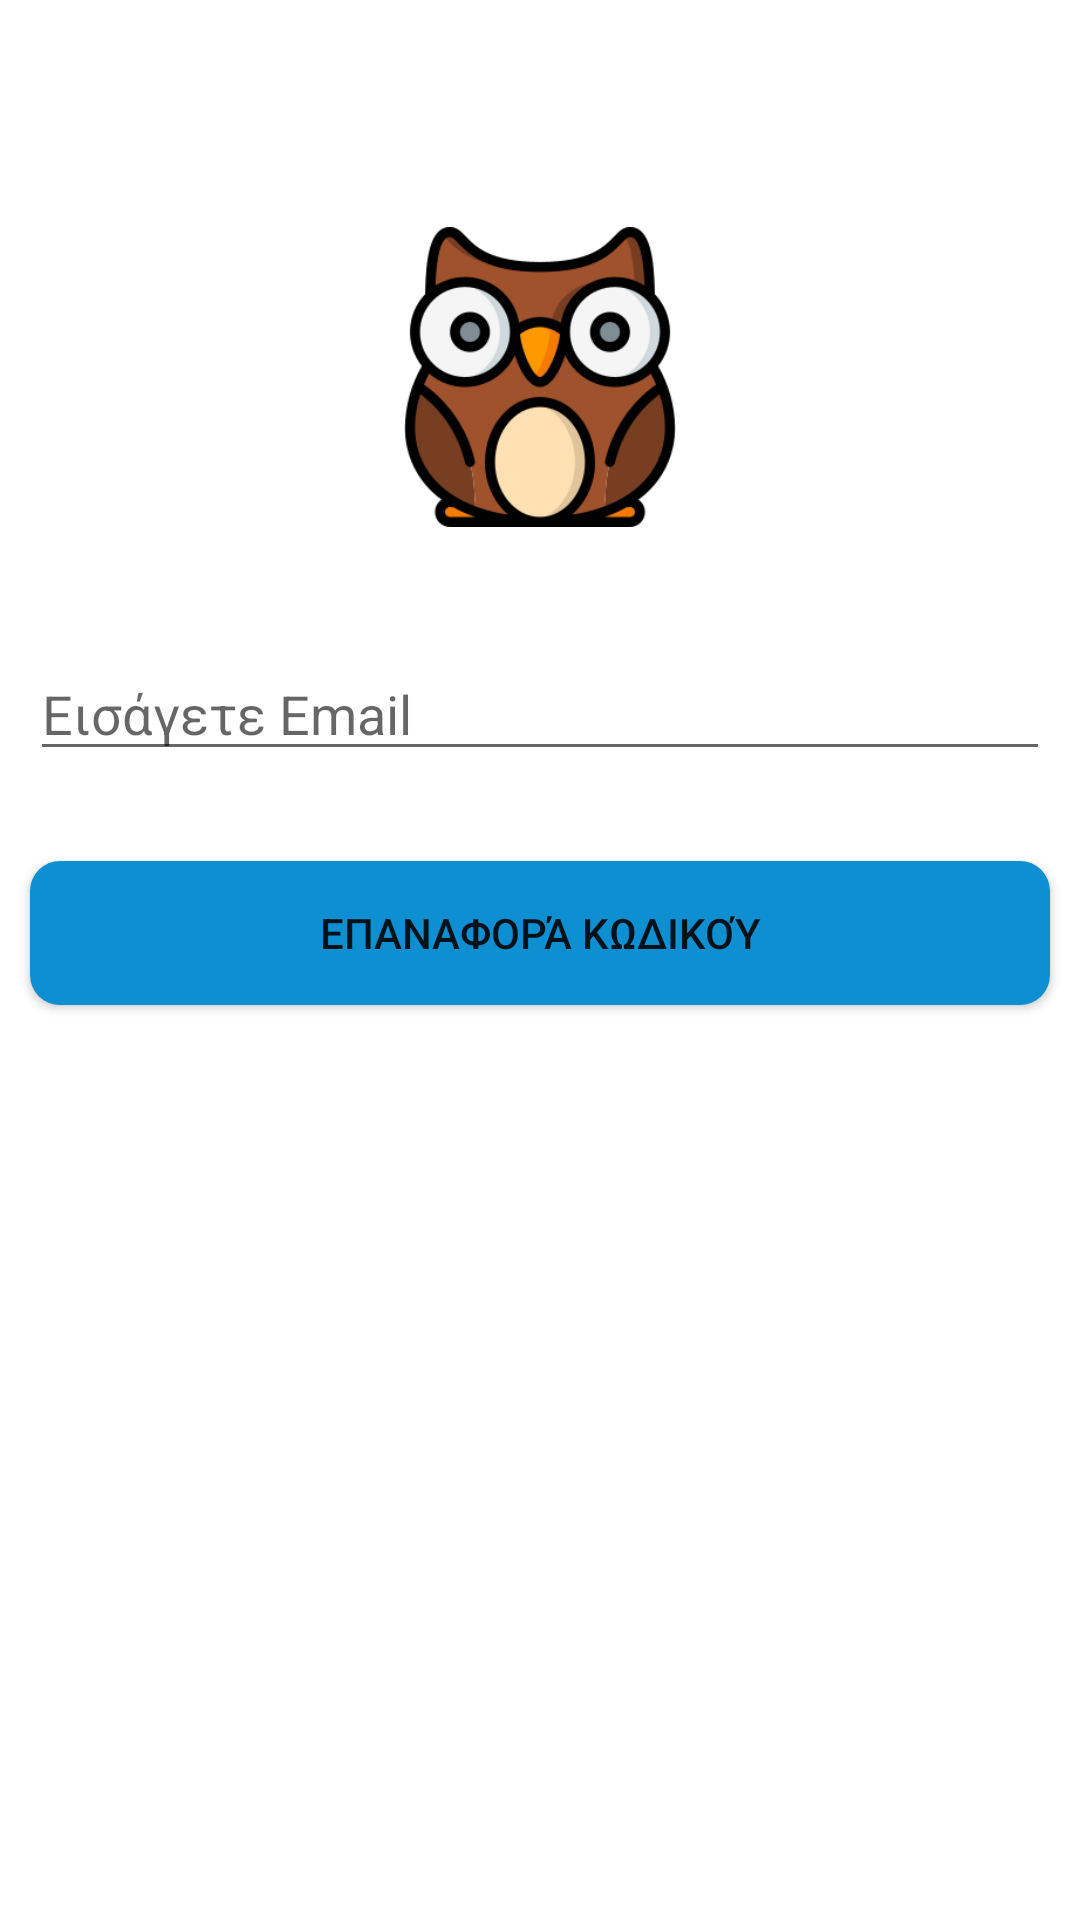

Icon click points for this 1080px x 1920px phone screenshot, format (x=x, y=y):
owl: (x=540, y=377)
